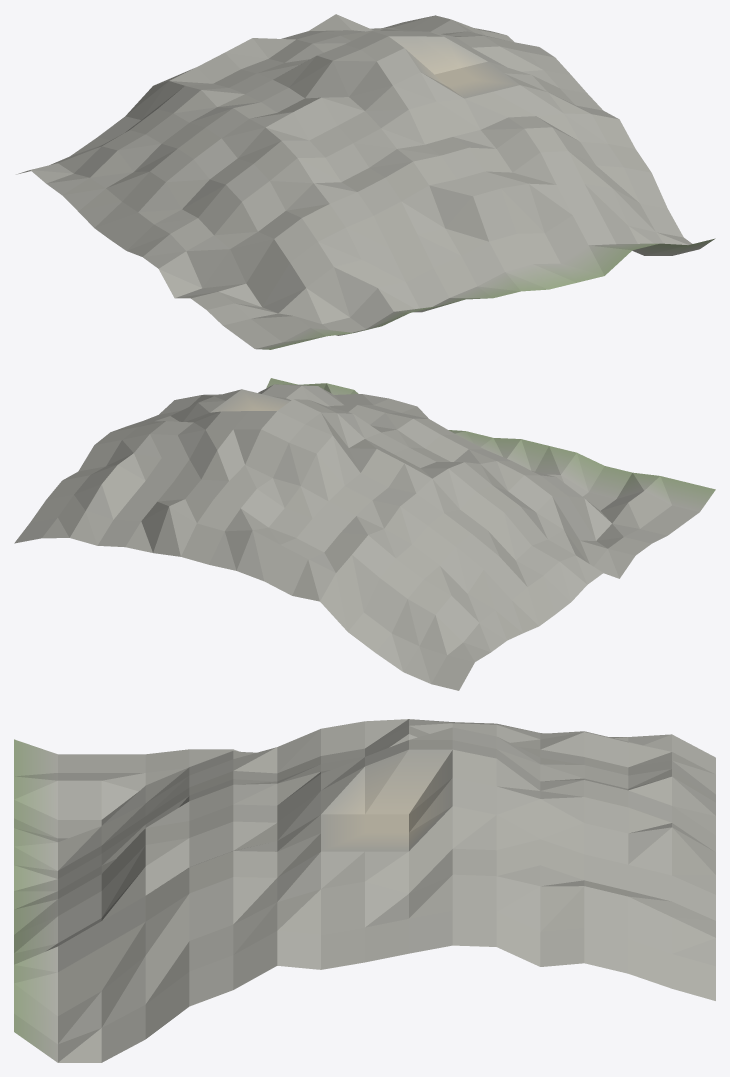
3 renders of one model, top to bottom at view 1: azimuth 30°, elevation 25°; view 2: azimuth 150°, elevation 25°; view 3: azimuth 270°, elevation 25°, orthographic. The views are drawn at different scales.
Size of the model in its own units: 32 by 10.16 by 32.
